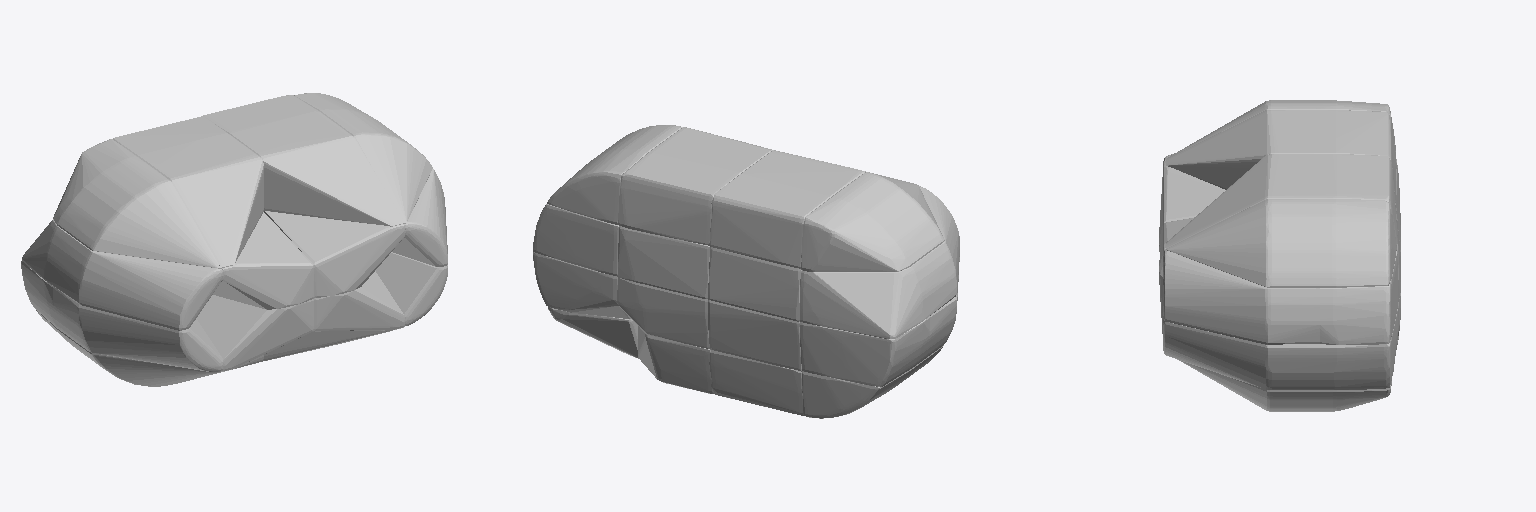
The model's file is hip-pitch_split.obj.
3 views of the same model, side by side, from view 1: azimuth 30°, elevation 25°; view 2: azimuth 150°, elevation 25°; view 3: azimuth 270°, elevation 25° (orthographic).
Parts seen in each view (by area): view 1: geometry_16, geometry_4, geometry_10, geometry_3, geometry_2, geometry_15, geometry_9, geometry_21, geometry_7, geometry_13, geometry_18, geometry_20 (+3 smaller); view 2: geometry_4, geometry_3, geometry_16, geometry_10, geometry_1, geometry_8, geometry_21, geometry_14, geometry_6, geometry_19, geometry_12, geometry_5 (+5 smaller); view 3: geometry_21, geometry_18, geometry_10, geometry_20, geometry_16, geometry_19, geometry_17, geometry_9, geometry_4.
Part boxes in pixels (x1,y1,x2,y2): geometry_16: (203, 95, 404, 226); geometry_4: (53, 139, 220, 268); geometry_10: (113, 116, 263, 268); geometry_3: (22, 219, 222, 330); geometry_2: (53, 287, 222, 371); geometry_15: (264, 211, 405, 297); geometry_9: (213, 212, 313, 309); geometry_21: (294, 93, 432, 223); geometry_7: (196, 295, 313, 370); geometry_13: (314, 271, 405, 331); geometry_18: (375, 252, 447, 325); geometry_20: (392, 169, 447, 266); geometry_4: (801, 172, 944, 271); geometry_3: (800, 186, 959, 338); geometry_16: (617, 127, 773, 245); geometry_10: (709, 150, 916, 269); geometry_1: (800, 316, 929, 386); geometry_8: (708, 247, 801, 321); geometry_21: (547, 125, 682, 224); geometry_14: (618, 226, 709, 298); geometry_6: (708, 300, 801, 370); geometry_19: (533, 204, 618, 276); geometry_12: (617, 278, 709, 348); geometry_5: (709, 349, 803, 415); geometry_21: (1167, 199, 1396, 287); geometry_18: (1163, 303, 1398, 389); geometry_10: (1166, 110, 1396, 202); geometry_20: (1163, 250, 1319, 344); geometry_16: (1166, 154, 1397, 249); geometry_19: (1320, 251, 1398, 344); geometry_17: (1177, 359, 1391, 411); geometry_9: (1159, 161, 1225, 247); geometry_4: (1168, 100, 1395, 157).
Bounding box in the file's own units: 0.2577 × 0.1378 × 0.1472.